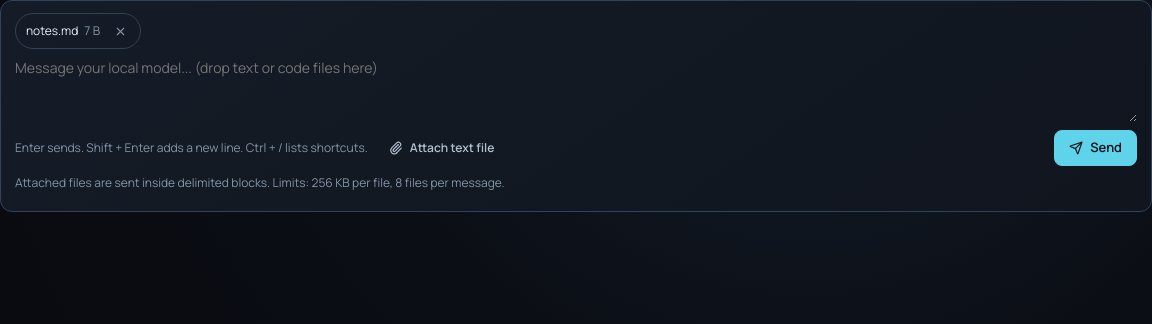
Test: Composer attachments › can remove an attached file before sending
Earlier steps of the test are not shown.
Click the button named "Remove notes.md": [120, 31] box [106,17,134,45]
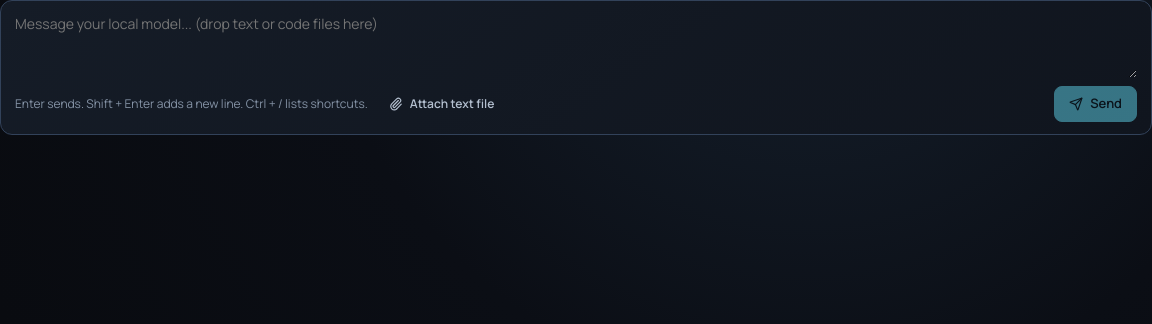
Now the text "notes.md" is gone
